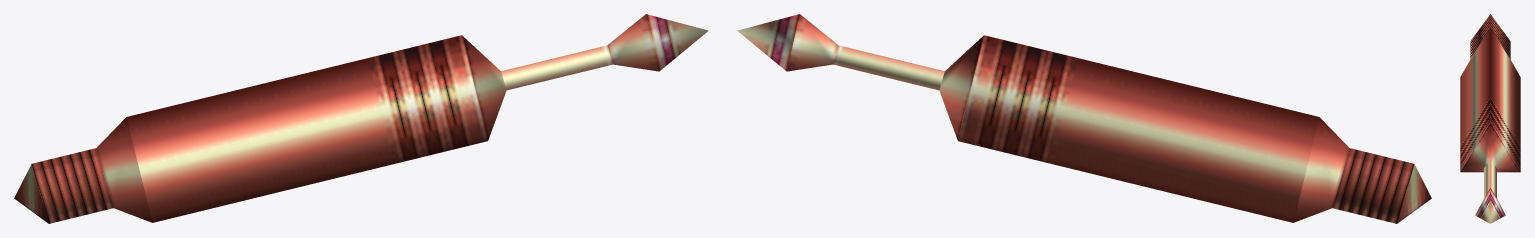
3 renders of one model, left to right at view 1: azimuth 30°, elevation 25°; view 2: azimuth 150°, elevation 25°; view 3: azimuth 270°, elevation 25°, orthographic. The views are drawn at different scales.
Visible parts, largest first — view 1: BW001; view 2: BW001; view 3: BW001.
Boxes of the visible parts, <box> form: BW001: <box>14,14,708,223</box>; BW001: <box>737,14,1431,223</box>; BW001: <box>1460,14,1520,223</box>.
Bounding box in the file's own units: 14.01 × 1.72 × 1.87.
Materials: 1 (1 with a texture image).
